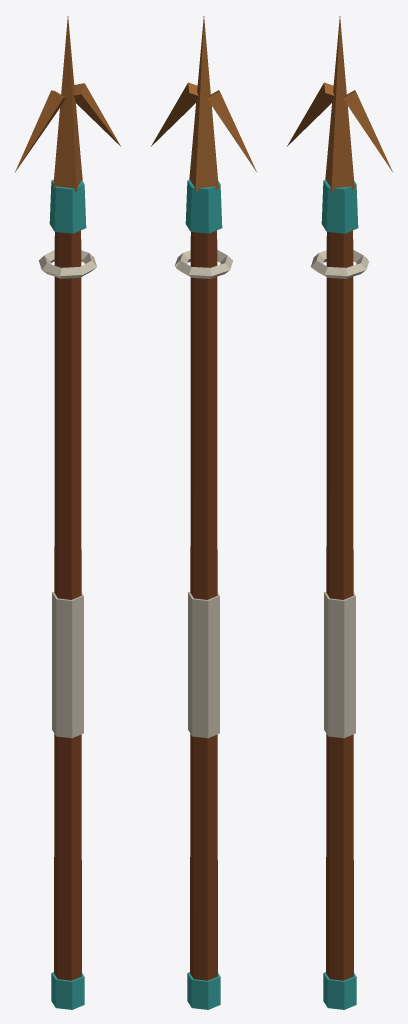
The model's file is weapon_naginata.glb.
The picture shows the model from 3 angles, left to right: view 1: azimuth 30°, elevation 25°; view 2: azimuth 150°, elevation 25°; view 3: azimuth 330°, elevation 25°; orthographic projection.
Visible parts, largest first — view 1: bird_weapon_naginata; view 2: bird_weapon_naginata; view 3: bird_weapon_naginata.
Part boxes in pixels (bbox=[...]): bird_weapon_naginata: bbox=[15, 16, 120, 1009]; bird_weapon_naginata: bbox=[151, 16, 256, 1009]; bird_weapon_naginata: bbox=[287, 16, 392, 1009].
Bounding box in the file's own units: 0.216 × 1.9 × 0.1056.
